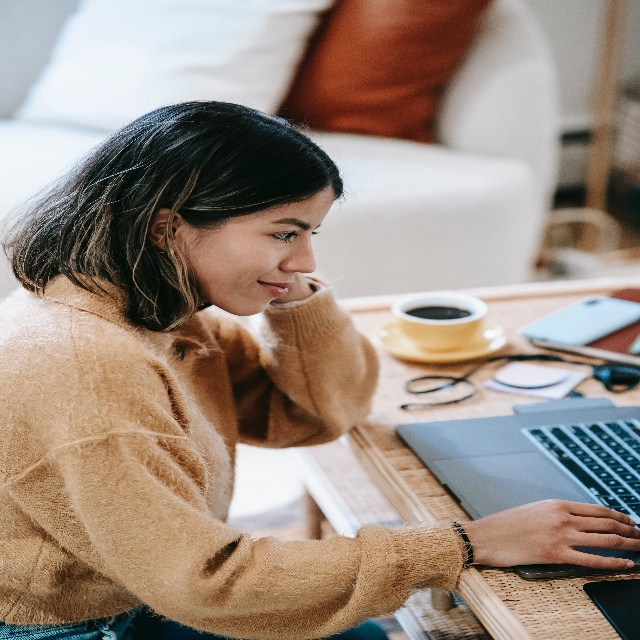Sin_guantes: (476, 508, 640, 566)
